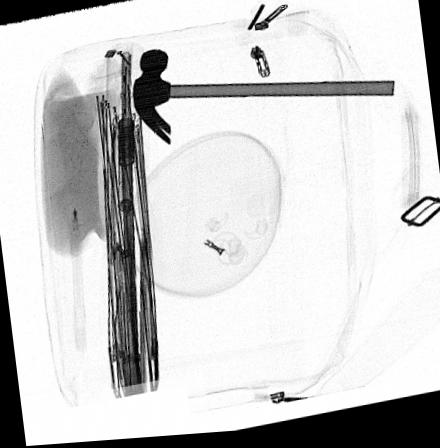Hammer: (132, 51, 395, 149)
